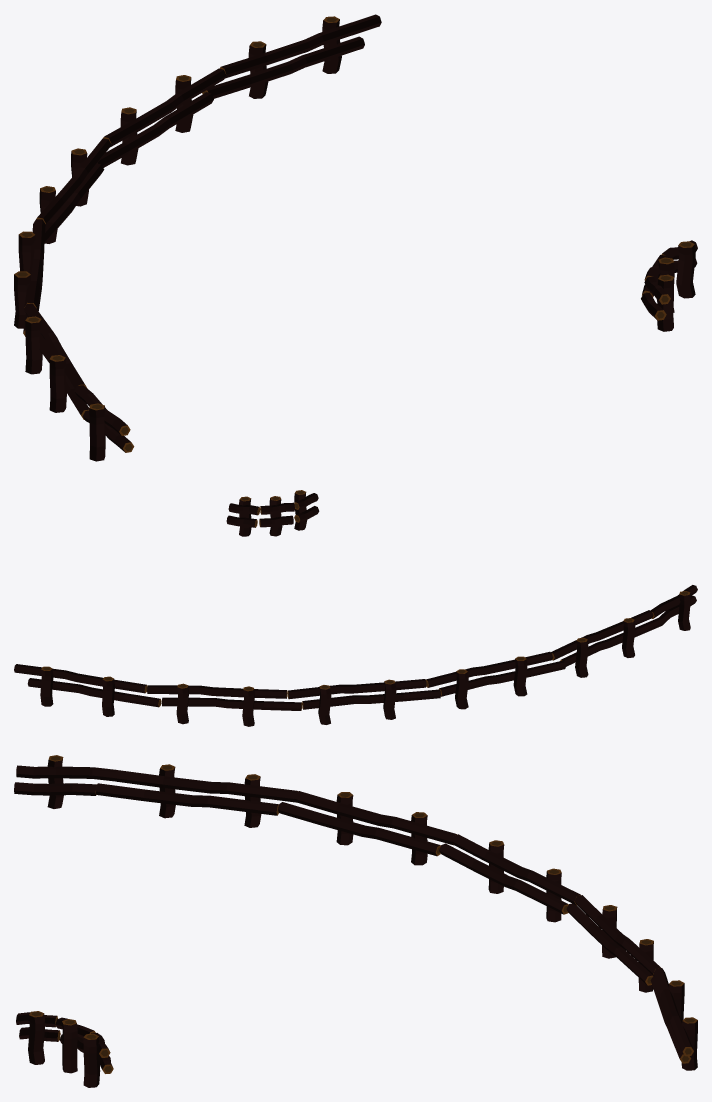
Rendered from rail90_1.fbx.
3 views of the same model, one above another, from view 1: azimuth 30°, elevation 25°; view 2: azimuth 150°, elevation 25°; view 3: azimuth 270°, elevation 25° (orthographic). The views are drawn at different scales.
Parts seen in each view (by area): view 1: rail90_1; view 2: rail90_1; view 3: rail90_1.
Boxes of the visible parts, x1,y1,x2,y2 form: rail90_1: (14,14,697,461); rail90_1: (14,490,697,726); rail90_1: (14,755,697,1087).
Bounding box in the file's own units: 8.99 × 8.97 × 0.6887.
